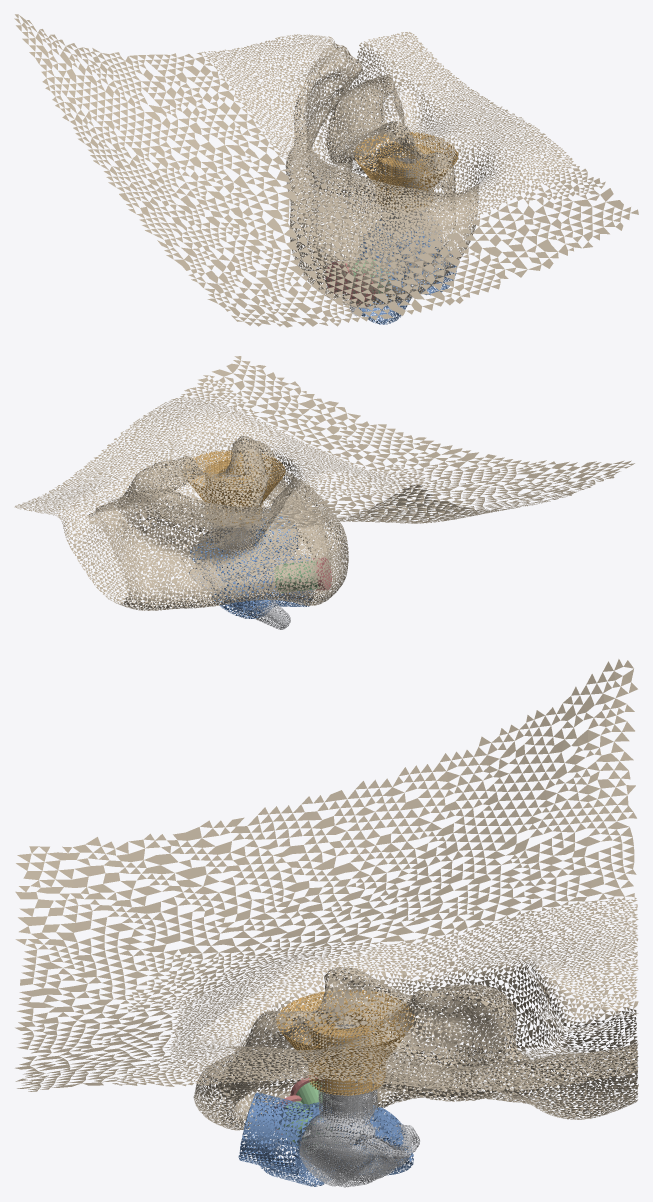
Rendered from seated_small.glb.
3 views of the same model, one above another, from view 1: azimuth 30°, elevation 25°; view 2: azimuth 150°, elevation 25°; view 3: azimuth 270°, elevation 25° (orthographic). The views are drawn at different scales.
Visible parts, largest first — view 1: ear, carrier, jacket_wing; view 2: ear, jacket_wing, carrier, core, stack_site2, nozzle_insert_short; view 3: ear, carrier, jacket_wing, core, faceplate, nozzle_insert_short.
Boxes of the visible parts, x1,y1,x2,y2 form: ear: (14, 14, 638, 327); carrier: (353, 132, 458, 212); jacket_wing: (355, 219, 456, 324); ear: (14, 356, 634, 610); jacket_wing: (190, 509, 313, 618); carrier: (182, 450, 285, 526); core: (188, 521, 290, 629); stack_site2: (274, 560, 319, 593); nozzle_insert_short: (211, 474, 255, 548); ear: (15, 659, 638, 1130); carrier: (276, 989, 415, 1095); jacket_wing: (238, 1092, 413, 1186); core: (298, 1083, 419, 1187); faceplate: (299, 1137, 396, 1186); nozzle_insert_short: (318, 1024, 377, 1123).
Size of the model in its own units: 85 by 55.94 by 84.98.
